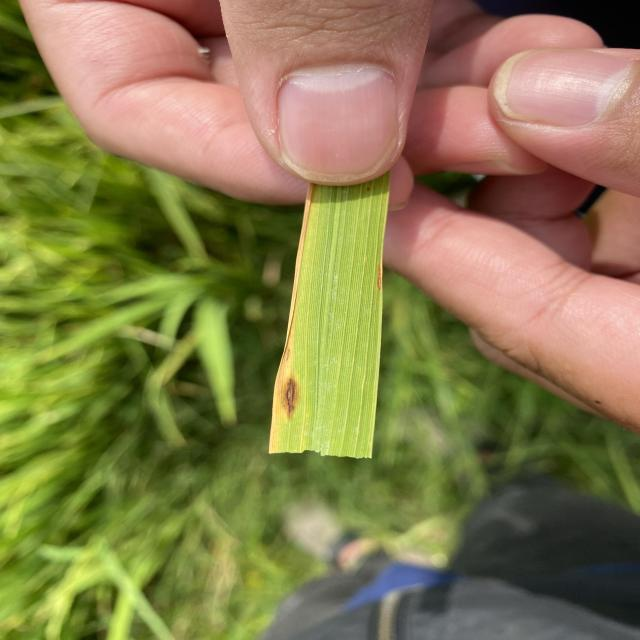Dom nau: (282, 377, 299, 422)
